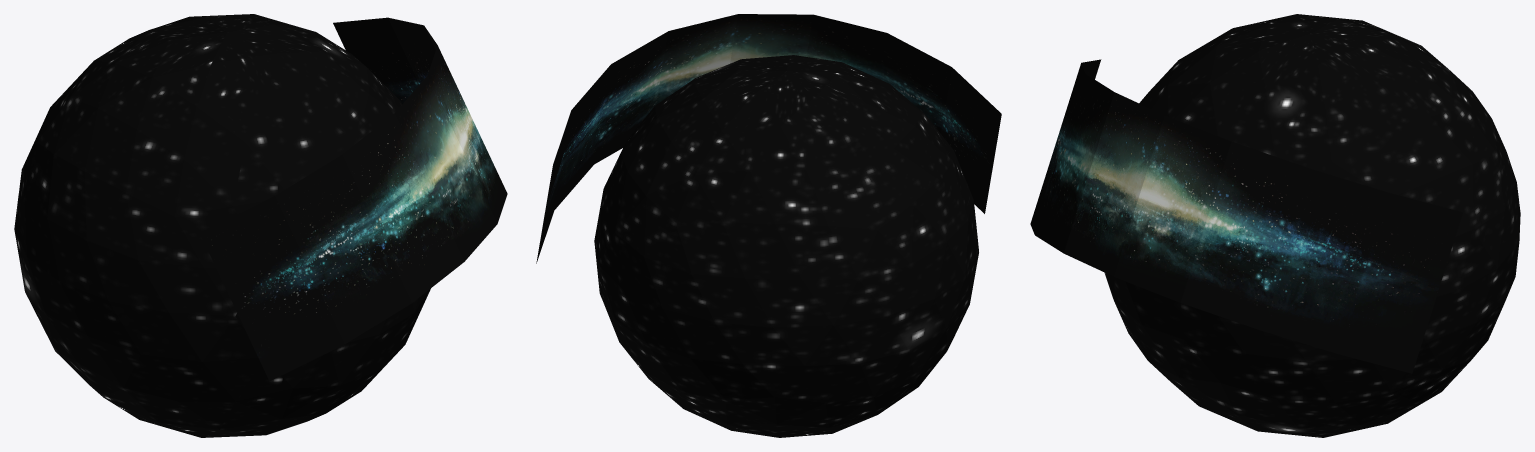
The model's file is sky ui.fbx.
The picture shows the model from 3 angles, left to right: view 1: azimuth 30°, elevation 25°; view 2: azimuth 150°, elevation 25°; view 3: azimuth 270°, elevation 25°; orthographic projection. The views are drawn at different scales.
Visible parts, largest first — view 1: Object_0, Object_1; view 2: Object_0, Object_1; view 3: Object_0, Object_1.
Part boxes in pixels (x1=…): Object_0: x1=14, y1=14, x2=430, y2=437; Object_1: x1=200, y1=17, x2=507, y2=381; Object_0: x1=594, y1=55, x2=978, y2=437; Object_1: x1=536, y1=14, x2=1001, y2=263; Object_0: x1=1104, y1=14, x2=1520, y2=437; Object_1: x1=1030, y1=59, x2=1462, y2=373.
Bounding box in the file's own units: 4707158 × 4080000 × 4707157.
Materials: 4 (4 with a texture image).
